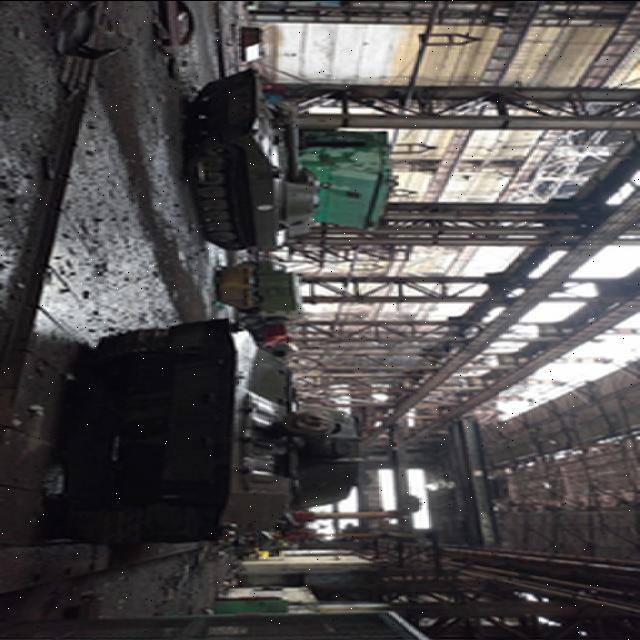ART: (66, 312, 398, 554), (178, 66, 329, 258)
TRUCK: (240, 259, 302, 319)
